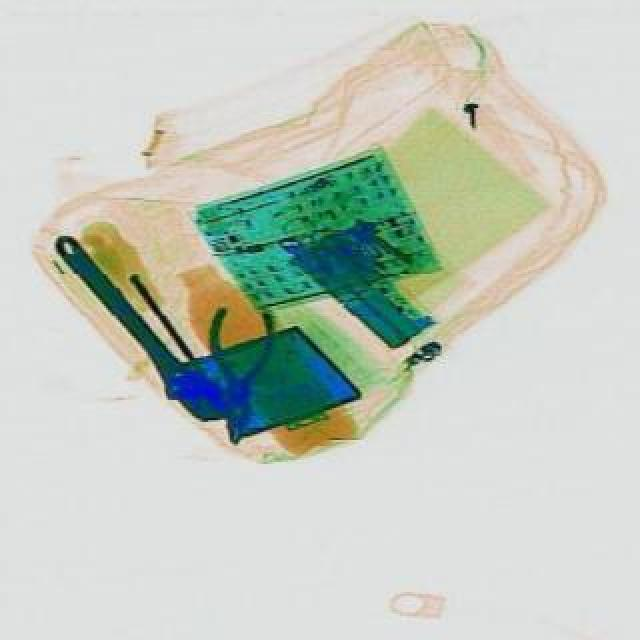scissors: (36, 222, 232, 430)
wrench: (200, 306, 274, 446)
